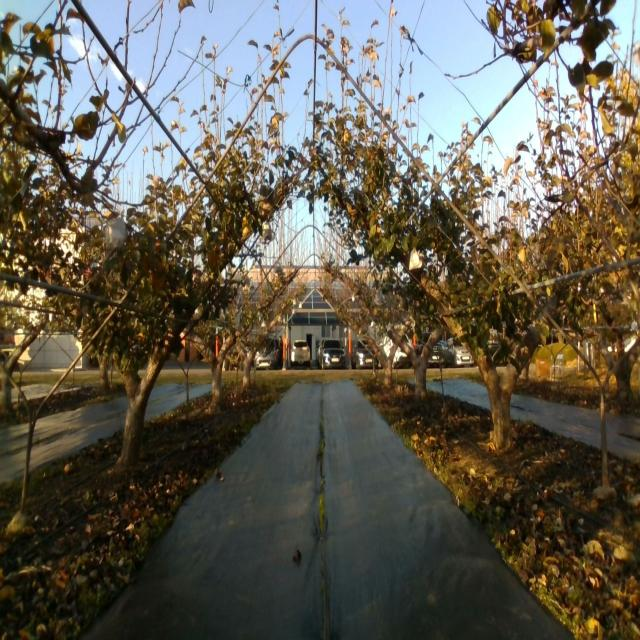pearbags: (104, 213, 127, 259), (408, 248, 422, 270), (263, 222, 274, 242)
